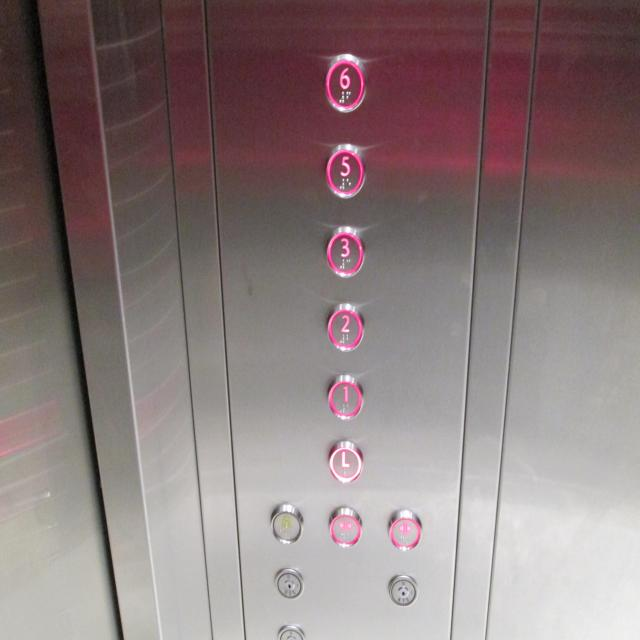1: (328, 374, 364, 420)
2: (326, 304, 364, 352)
3: (326, 227, 364, 279)
5: (324, 143, 368, 199)
6: (322, 53, 368, 113)
L: (330, 441, 362, 483)
alarm: (268, 504, 304, 545)
close: (329, 506, 362, 550)
keyhole: (387, 572, 419, 605), (272, 568, 306, 599)
open: (388, 511, 424, 554)
